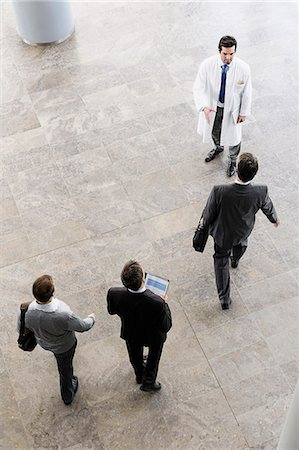person: (200, 153, 281, 310), (22, 275, 95, 405), (106, 260, 170, 394), (195, 35, 255, 160)
